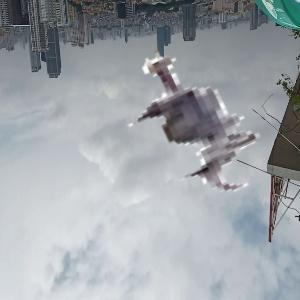drone: (87, 25, 280, 218)
